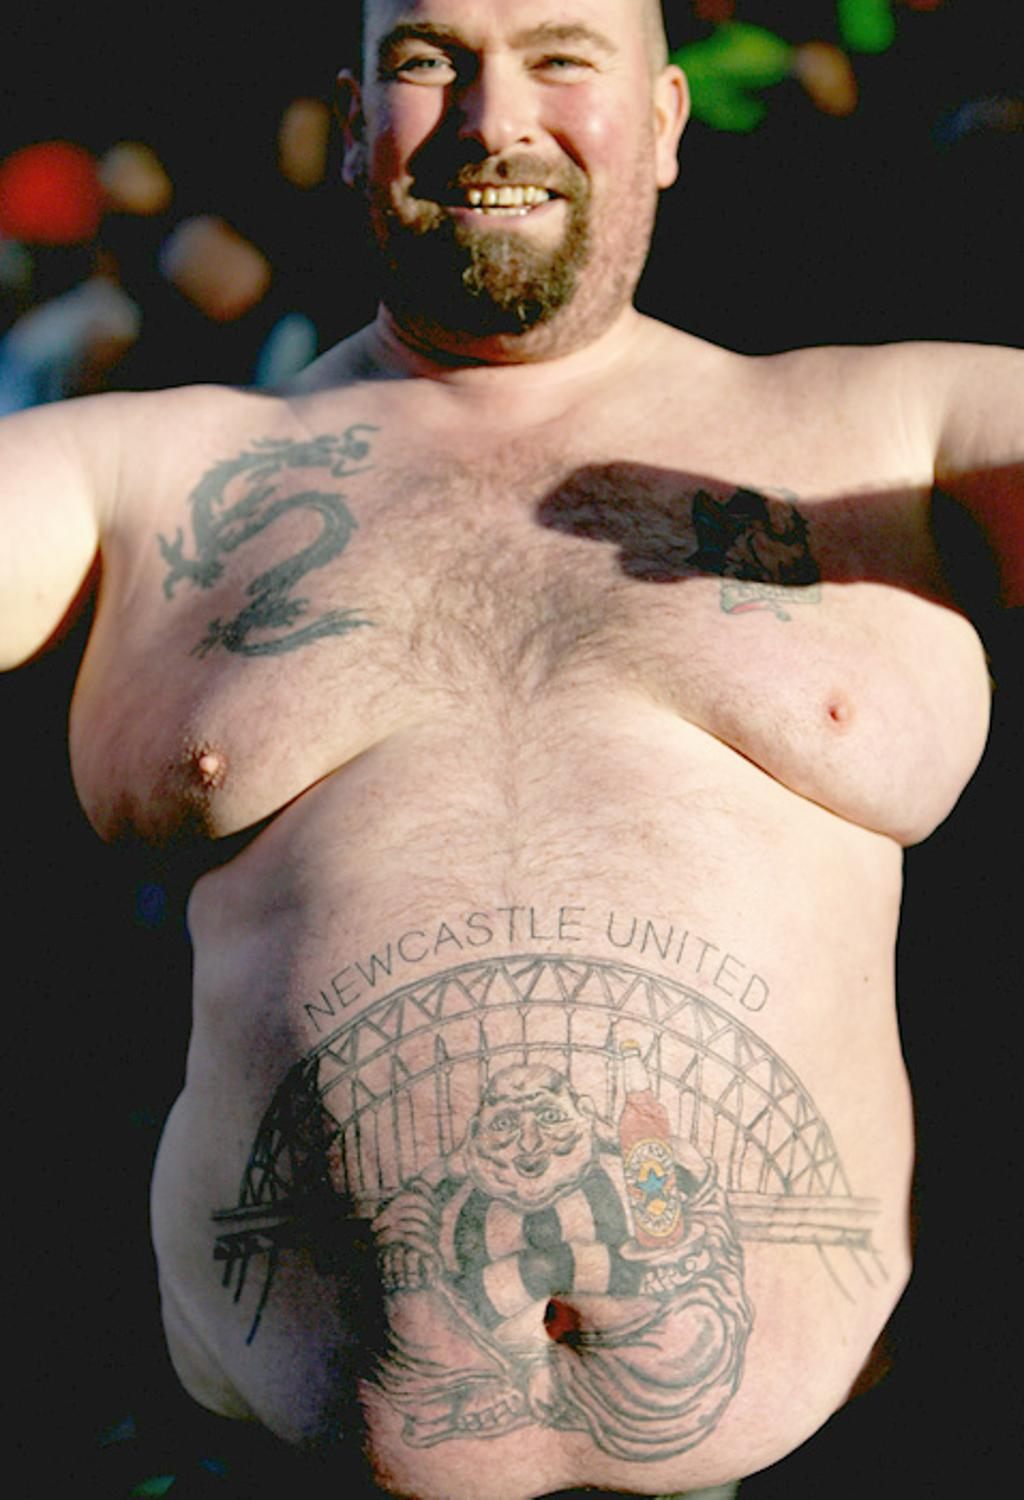face: (357, 6, 652, 331)
